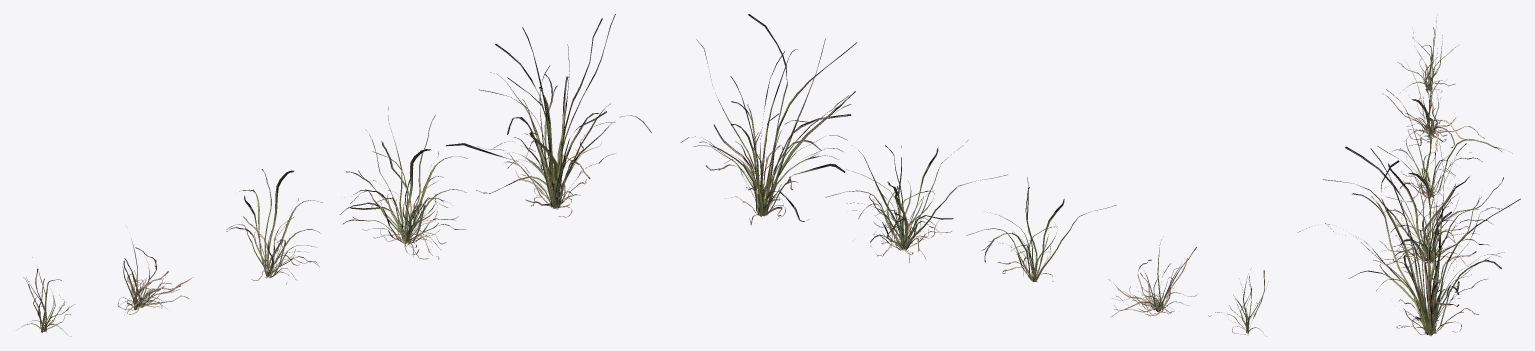
Rendered from grass_medium_02.glb.
The picture shows the model from 3 angles, left to right: view 1: azimuth 30°, elevation 25°; view 2: azimuth 150°, elevation 25°; view 3: azimuth 270°, elevation 25°; orthographic projection. The views are drawn at different scales.
Parts seen in each view (by area): view 1: grass_medium_02_e, grass_medium_02_d, grass_medium_02_c, grass_medium_02_b, grass_medium_02_a; view 2: grass_medium_02_e, grass_medium_02_d, grass_medium_02_c, grass_medium_02_b, grass_medium_02_a; view 3: grass_medium_02_e, grass_medium_02_d, grass_medium_02_c, grass_medium_02_b, grass_medium_02_a.
Boxes of the visible parts, box(x1,y1,x2,y2) form: grass_medium_02_e: box(446, 14, 651, 217); grass_medium_02_d: box(340, 107, 467, 259); grass_medium_02_c: box(226, 169, 322, 284); grass_medium_02_b: box(117, 239, 193, 315); grass_medium_02_a: box(22, 257, 74, 336); grass_medium_02_e: box(680, 14, 856, 224); grass_medium_02_d: box(825, 140, 1007, 262); grass_medium_02_c: box(966, 177, 1116, 281); grass_medium_02_b: box(1108, 236, 1197, 317); grass_medium_02_a: box(1209, 269, 1268, 334); grass_medium_02_e: box(1297, 142, 1520, 335); grass_medium_02_d: box(1323, 143, 1509, 274); grass_medium_02_c: box(1386, 89, 1512, 215); grass_medium_02_b: box(1382, 48, 1484, 151); grass_medium_02_a: box(1398, 17, 1458, 92).
Bounding box in the file's own units: 1.31 × 0.4053 × 0.4332.
Materials: 1 (1 with a texture image).
